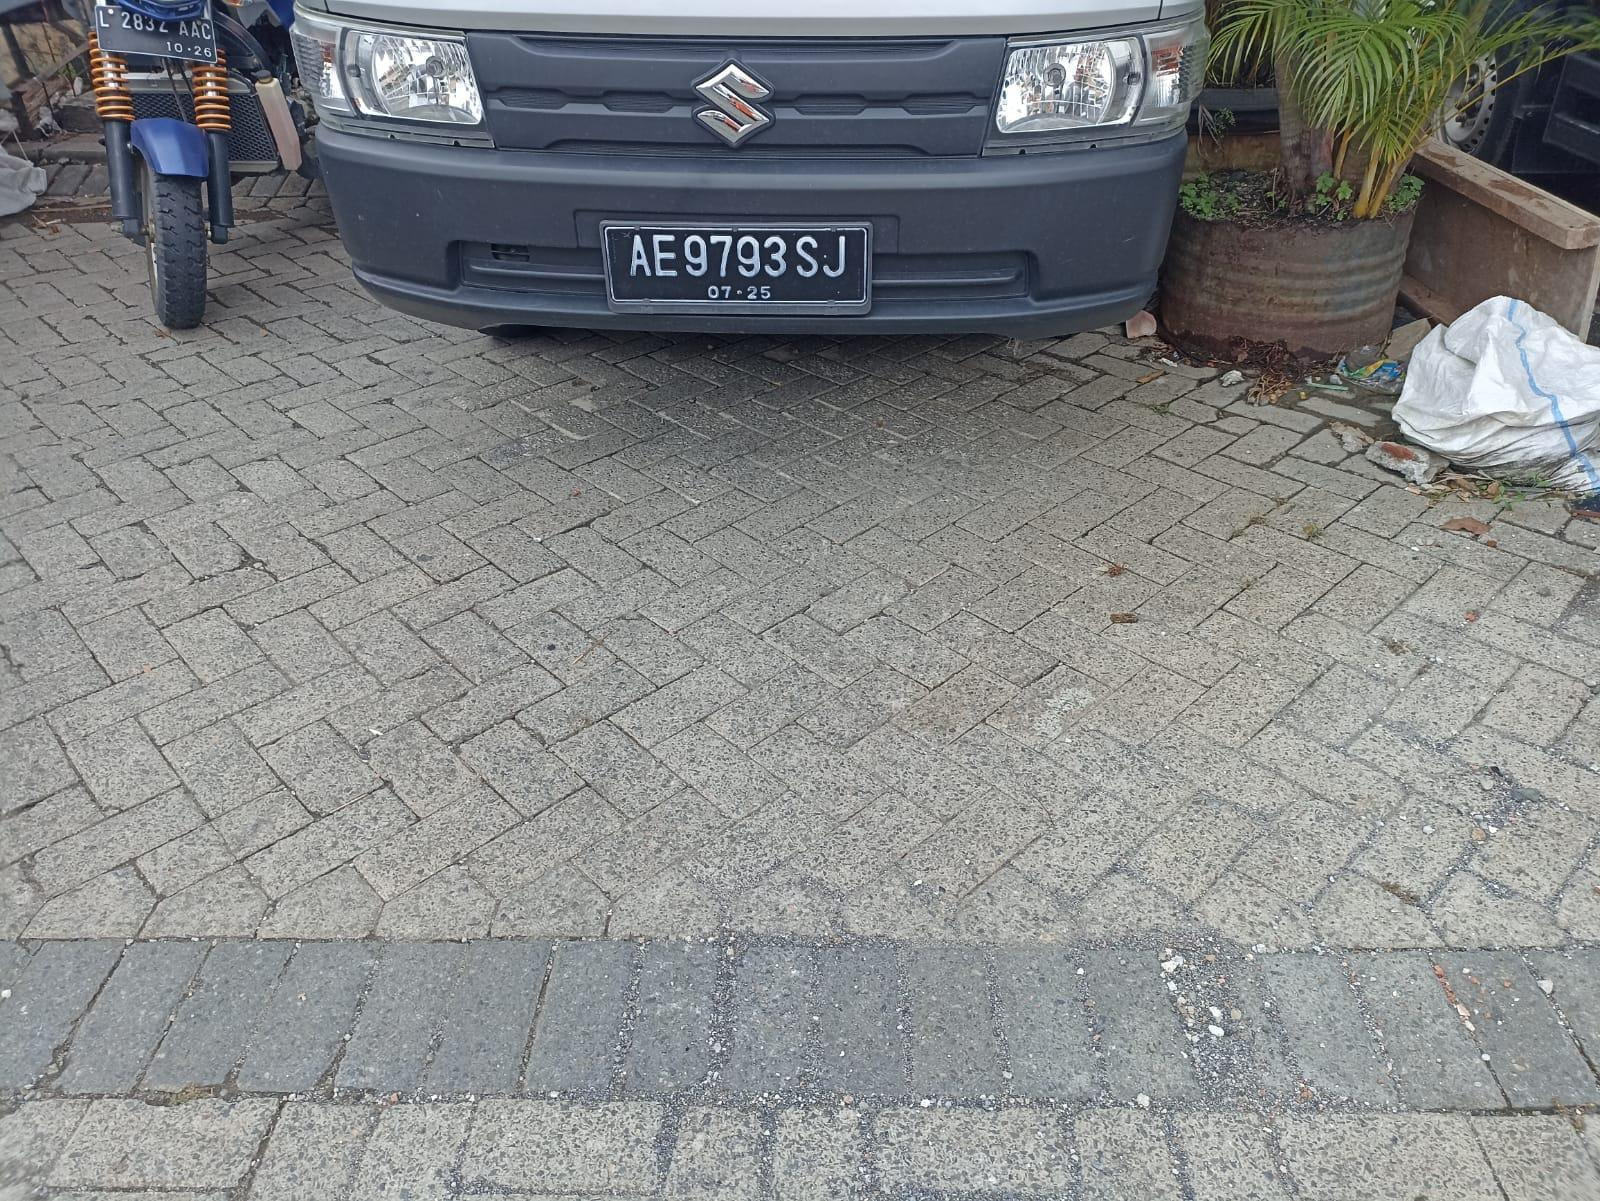plat: (601, 222, 872, 313), (93, 6, 216, 63)
